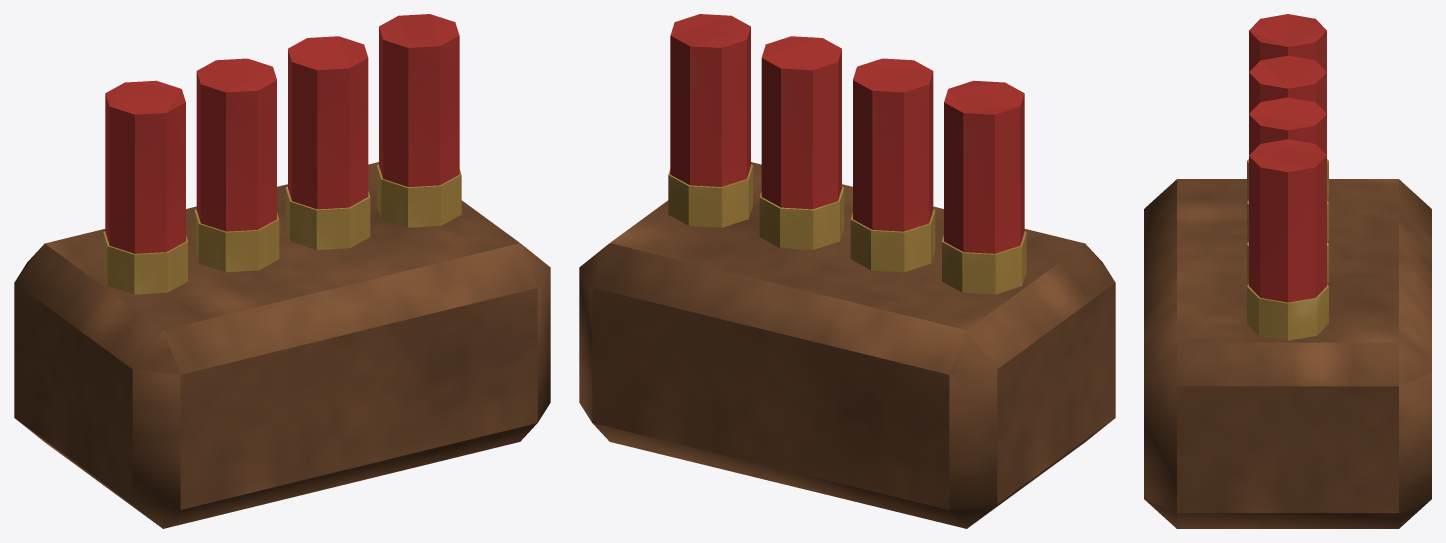
Rendered from SM_Ammo_Shotgun.fbx.
3 renders of one model, left to right at view 1: azimuth 30°, elevation 25°; view 2: azimuth 150°, elevation 25°; view 3: azimuth 270°, elevation 25°, orthographic. The views are drawn at different scales.
Parts seen in each view (by area): view 1: SM_Ammo_Shotgun; view 2: SM_Ammo_Shotgun; view 3: SM_Ammo_Shotgun.
Part boxes in pixels (x1,y1,x2,y2): SM_Ammo_Shotgun: [14, 14, 550, 528]; SM_Ammo_Shotgun: [579, 14, 1115, 528]; SM_Ammo_Shotgun: [1144, 14, 1431, 528].
Size of the model in its own units: 1.1 by 0.95 by 0.7.
Materials: 1 (1 with a texture image).
